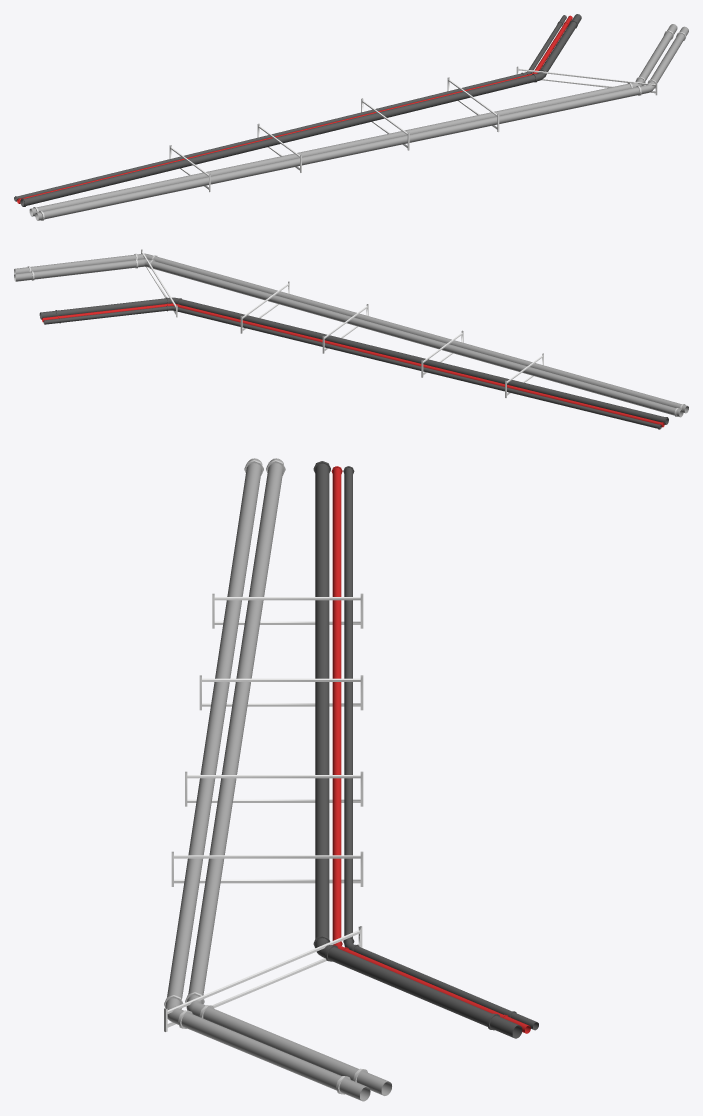
Rendered from SM_H_Building_Tide_WaterMaintain_01e_ATLAS.fbx.
3 views of the same model, one above another, from view 1: azimuth 30°, elevation 25°; view 2: azimuth 150°, elevation 25°; view 3: azimuth 270°, elevation 25° (orthographic). The views are drawn at different scales.
Visible parts, largest first — view 1: SM_H_Building_Tide_WaterMaintain_01e_ATLAS; view 2: SM_H_Building_Tide_WaterMaintain_01e_ATLAS; view 3: SM_H_Building_Tide_WaterMaintain_01e_ATLAS.
Boxes of the visible parts, box(x1,y1,x2,y2) form: SM_H_Building_Tide_WaterMaintain_01e_ATLAS: box(14, 14, 688, 220); SM_H_Building_Tide_WaterMaintain_01e_ATLAS: box(14, 249, 688, 429); SM_H_Building_Tide_WaterMaintain_01e_ATLAS: box(164, 458, 538, 1101).
Bounding box in the file's own units: 5507 × 1383 × 138.
